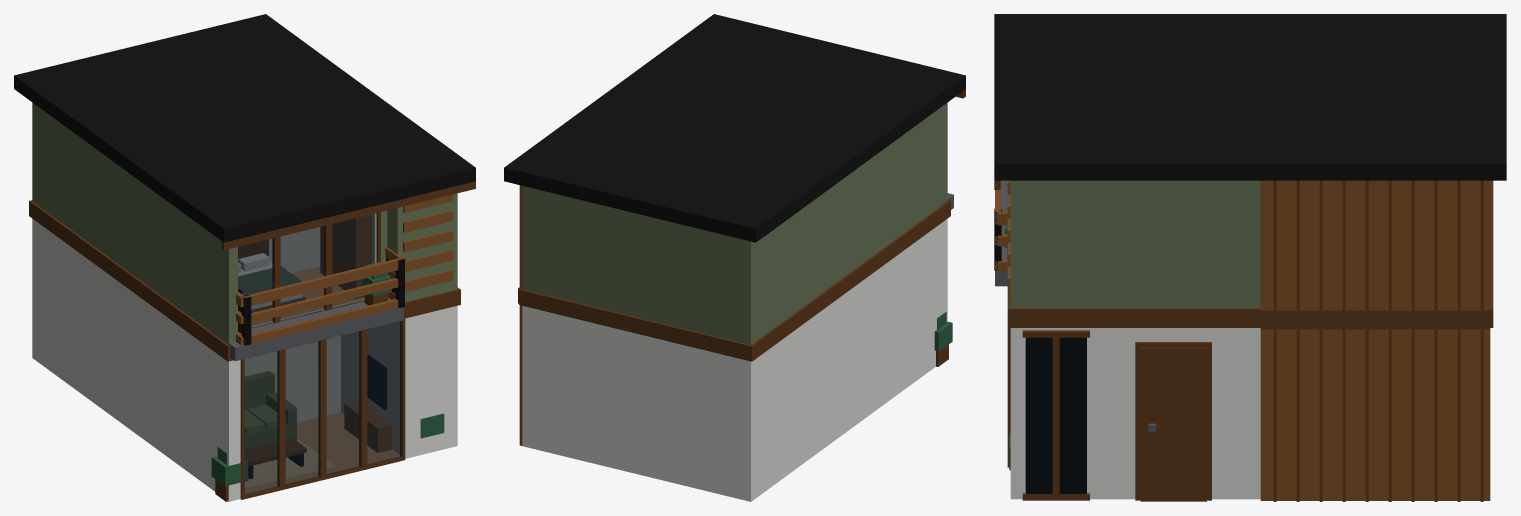
Rendered from rumah-tipe5.glb.
3 views of the same model, side by side, from view 1: azimuth 30°, elevation 25°; view 2: azimuth 150°, elevation 25°; view 3: azimuth 270°, elevation 25° (orthographic). The views are drawn at different scales.
Visible parts, largest first — view 1: RoofSlab, Body_F1_Left, Body_F2_LB_Left, Body_F1_Right, FrontGlass_1, FrontGlass_2, FrontGlass_3, FrontGlass_0, LR_WallBack, LR_WallR, Body_F2_Right, Band_Left (+34 smaller); view 2: RoofSlab, Body_F1_Left, Body_F1_Back, Body_F2_LB_Left, Body_F2_LB_Back, Body_F1_Right, Body_F2_Right, Band_Back, Band_Left, Body_F2_LB_Right, Body_F2_Cheek, WoodPanel_Low; view 3: RoofSlab, WoodPanel_Low, Body_F2_Right, WoodPanel_High, Body_F1_Right, Door_Leaf, SideWindow_Backing, SideWindow_Glass, Band_Right, Band_PanelStrip, Door_Frame, SideWindow_Mullion (+11 smaller).
Part boxes in pixels (left/top/right/bottom): RoofSlab: left=14, top=14, right=475, bottom=242; Body_F1_Left: left=32, top=219, right=240, bottom=501; Body_F2_LB_Left: left=32, top=102, right=218, bottom=337; Body_F1_Right: left=405, top=306, right=457, bottom=458; FrontGlass_1: left=285, top=341, right=320, bottom=485; FrontGlass_2: left=326, top=331, right=360, bottom=475; FrontGlass_3: left=367, top=321, right=401, bottom=465; FrontGlass_0: left=244, top=351, right=279, bottom=495; LR_WallBack: left=245, top=336, right=340, bottom=422; LR_WallR: left=341, top=321, right=399, bottom=454; Body_F2_Right: left=387, top=193, right=457, bottom=301; Band_Left: left=30, top=202, right=228, bottom=359; RoofSlab: left=504, top=14, right=965, bottom=242; Body_F1_Left: left=739, top=219, right=947, bottom=501; Body_F1_Back: left=575, top=319, right=739, bottom=498; Body_F2_LB_Left: left=742, top=110, right=937, bottom=344; Body_F2_LB_Back: left=593, top=203, right=741, bottom=342; Body_F1_Right: left=522, top=306, right=575, bottom=458; Body_F2_Right: left=522, top=186, right=582, bottom=303; Band_Back: left=519, top=289, right=753, bottom=361; Band_Left: left=752, top=202, right=949, bottom=359; Body_F2_LB_Right: left=582, top=200, right=593, bottom=306; Body_F2_Cheek: left=937, top=102, right=947, bottom=208; WoodPanel_Low: left=519, top=305, right=522, bottom=445; RoofSlab: left=994, top=14, right=1506, bottom=180; WoodPanel_Low: left=1260, top=329, right=1490, bottom=500; Body_F2_Right: left=1010, top=180, right=1260, bottom=307; WoodPanel_High: left=1260, top=180, right=1490, bottom=309; Body_F1_Right: left=1010, top=328, right=1260, bottom=499; Door_Leaf: left=1140, top=347, right=1206, bottom=501; SideWindow_Backing: left=1025, top=337, right=1086, bottom=493; SideWindow_Glass: left=1026, top=338, right=1086, bottom=494; Band_Right: left=1011, top=308, right=1260, bottom=327; Band_PanelStrip: left=1260, top=309, right=1490, bottom=329; Door_Frame: left=1135, top=342, right=1211, bottom=500; SideWindow_Mullion: left=1052, top=337, right=1059, bottom=494.
Bounding box in the file's own units: 0.694 × 0.739 × 1.
